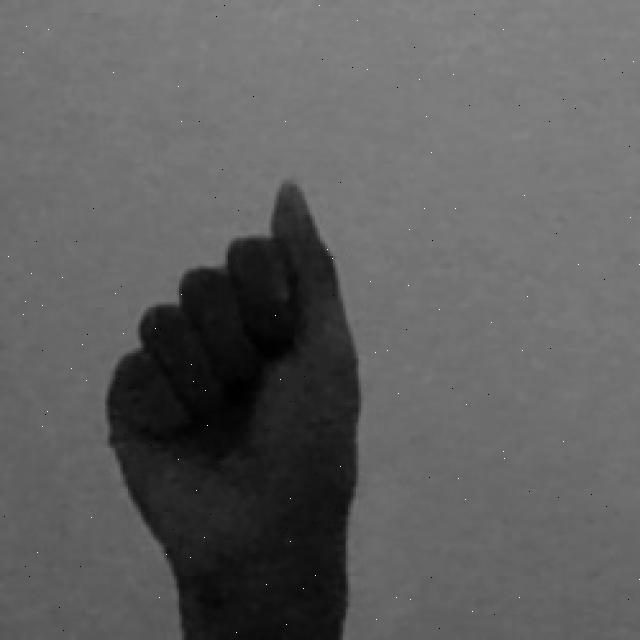A: (95, 169, 371, 640)
